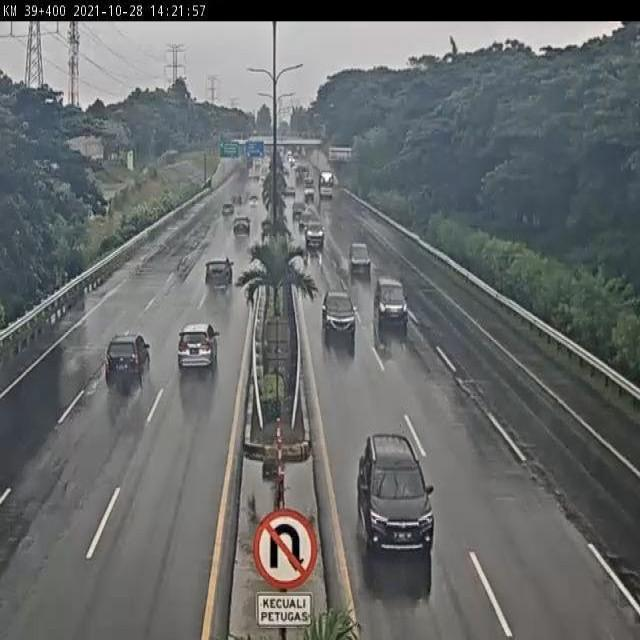car: (356, 434, 437, 554), (103, 334, 151, 389), (177, 323, 221, 376), (321, 288, 358, 340), (375, 276, 407, 324), (204, 256, 233, 288), (348, 241, 372, 276), (305, 221, 325, 252)
